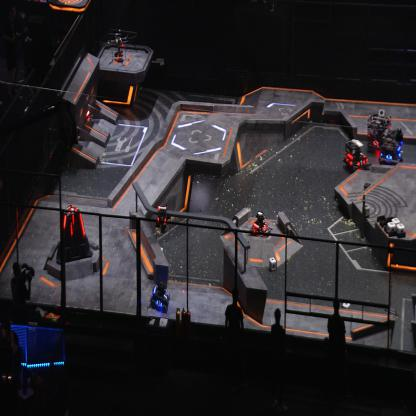car: (343, 137, 371, 174), (365, 113, 392, 151), (379, 128, 405, 166), (249, 210, 272, 238), (150, 280, 170, 312), (76, 102, 92, 128)
